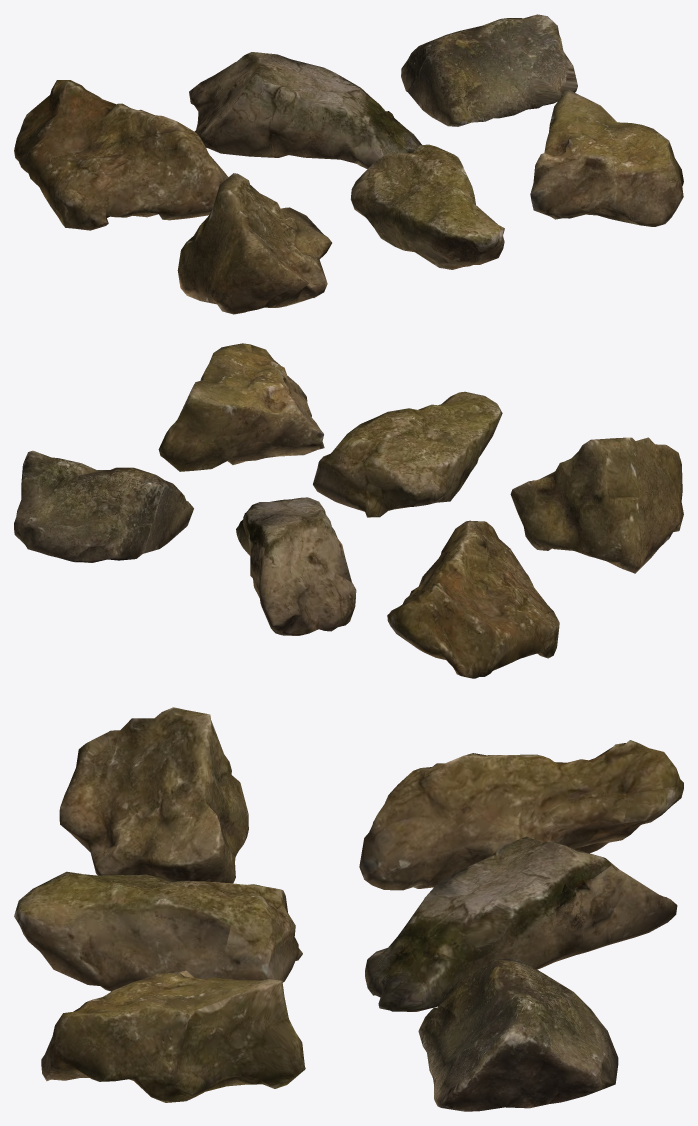
Rendered from rock_moss_set_01.glb.
The picture shows the model from 3 angles, top to bottom: view 1: azimuth 30°, elevation 25°; view 2: azimuth 150°, elevation 25°; view 3: azimuth 270°, elevation 25°; orthographic projection. The views are drawn at different scales.
Visible parts, largest first — view 1: rock_moss_set_01_rock01; view 2: rock_moss_set_01_rock01; view 3: rock_moss_set_01_rock01.
Part boxes in pixels (x1,y1,x2,y2): rock_moss_set_01_rock01: (14, 14, 683, 314); rock_moss_set_01_rock01: (14, 343, 683, 678); rock_moss_set_01_rock01: (14, 707, 683, 1111).
Size of the model in its own units: 8 by 1.76 by 6.94.
1 material, 1 textured.
